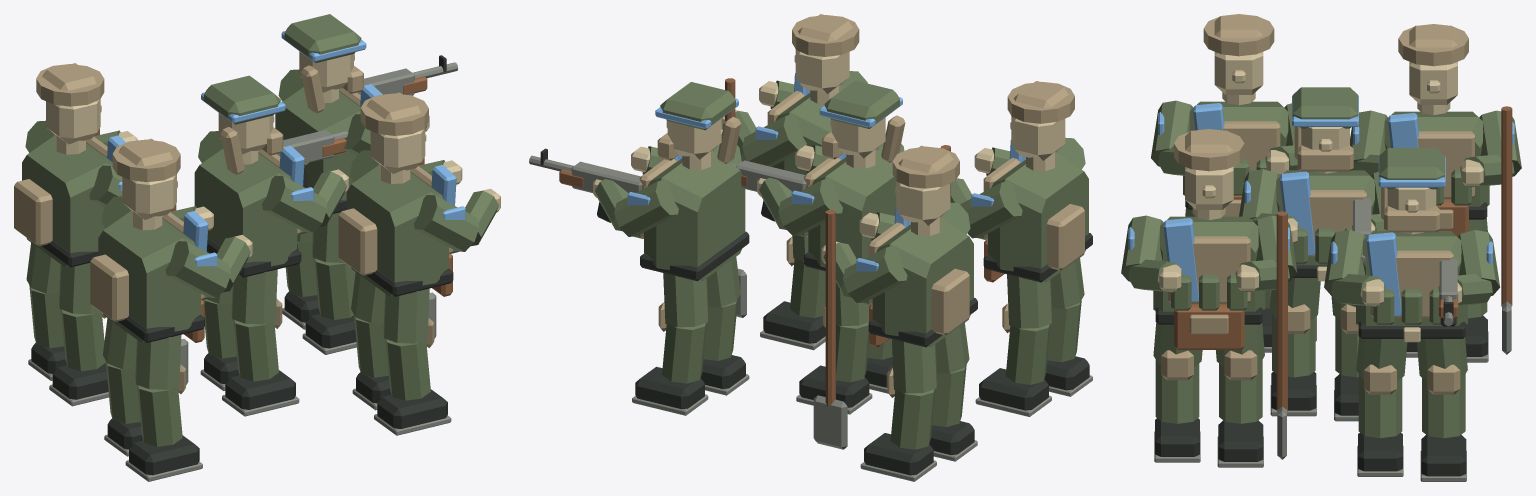
The model's file is angry_mob.glb.
3 renders of one model, left to right at view 1: azimuth 30°, elevation 25°; view 2: azimuth 150°, elevation 25°; view 3: azimuth 270°, elevation 25°, orthographic. The views are drawn at different scales.
Visible parts, largest first — view 1: angry_mob; view 2: angry_mob; view 3: angry_mob.
Boxes of the visible parts, left/top/right/bottom form: angry_mob: left=14, top=14, right=500, bottom=481; angry_mob: left=529, top=14, right=1092, bottom=481; angry_mob: left=1121, top=14, right=1521, bottom=481.
Size of the model in its own units: 2 by 1.3 by 1.52.
